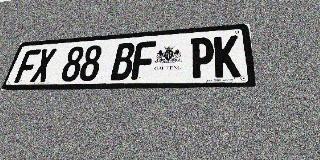8: (59, 46, 86, 82), (77, 45, 104, 81)
B: (110, 42, 136, 80)
F: (131, 41, 156, 80), (14, 49, 41, 83)
K: (214, 35, 241, 78)
P: (189, 37, 214, 78)
X: (30, 48, 57, 82)
